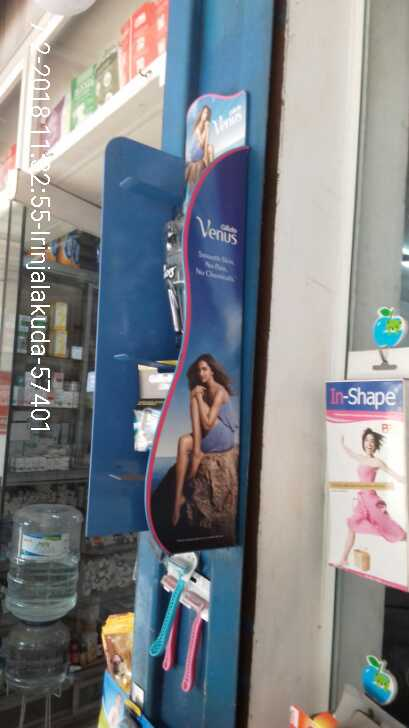reject: (76, 250, 167, 515)
